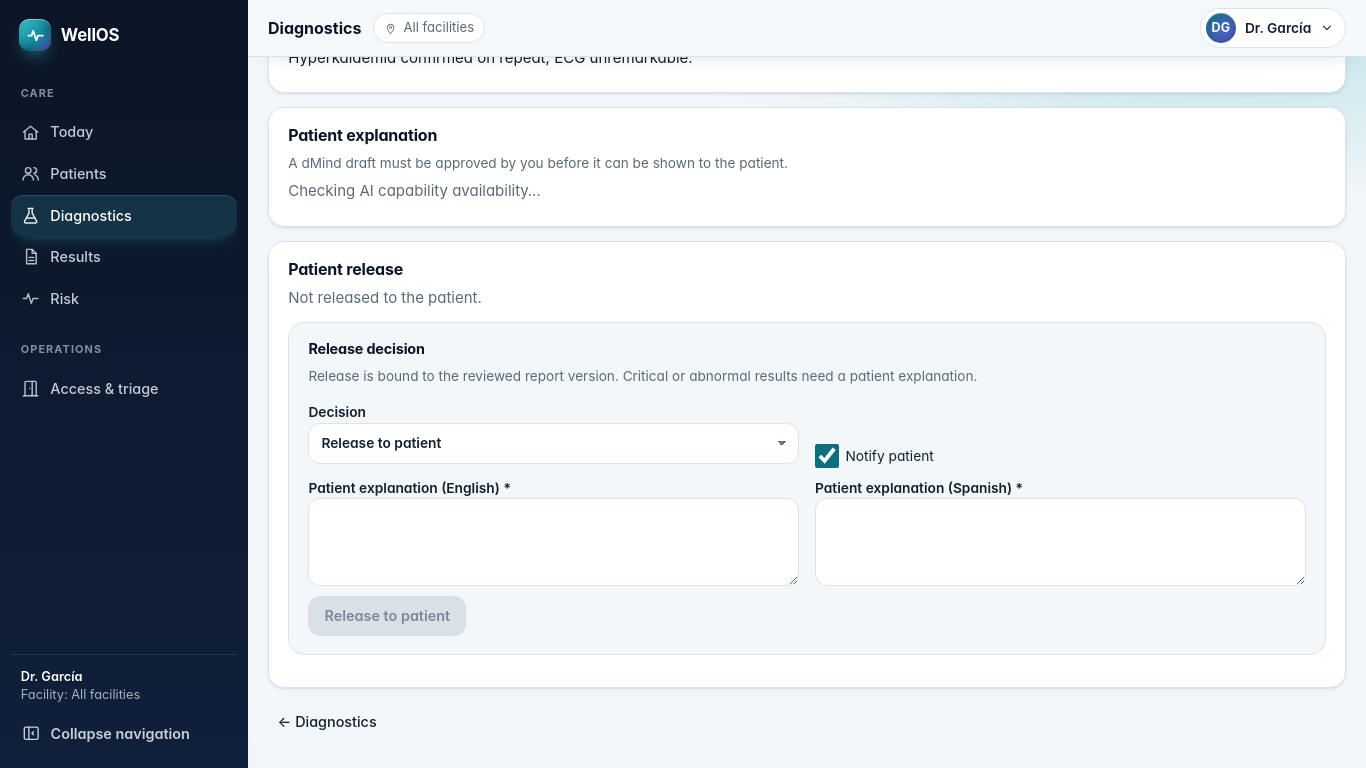
diagnostic report review and release › requires a bilingual explanation for an abnormal result before release and never releases automatically
The image size is (1366, 768).
Later steps or results of the test are not shown.
(page scrolled)
Expected: the element with test id "dx-release" is shown, [288, 322, 1326, 655]
Expected: the button with test id "dx-release-submit" is disabled, [308, 596, 466, 636]
Type "Your potassium is high; we will call you today." into the text box with test id "dx-explanation-en".
click(554, 542); type("Your potassium is high; we will call you today.")  # box [308, 498, 799, 586]
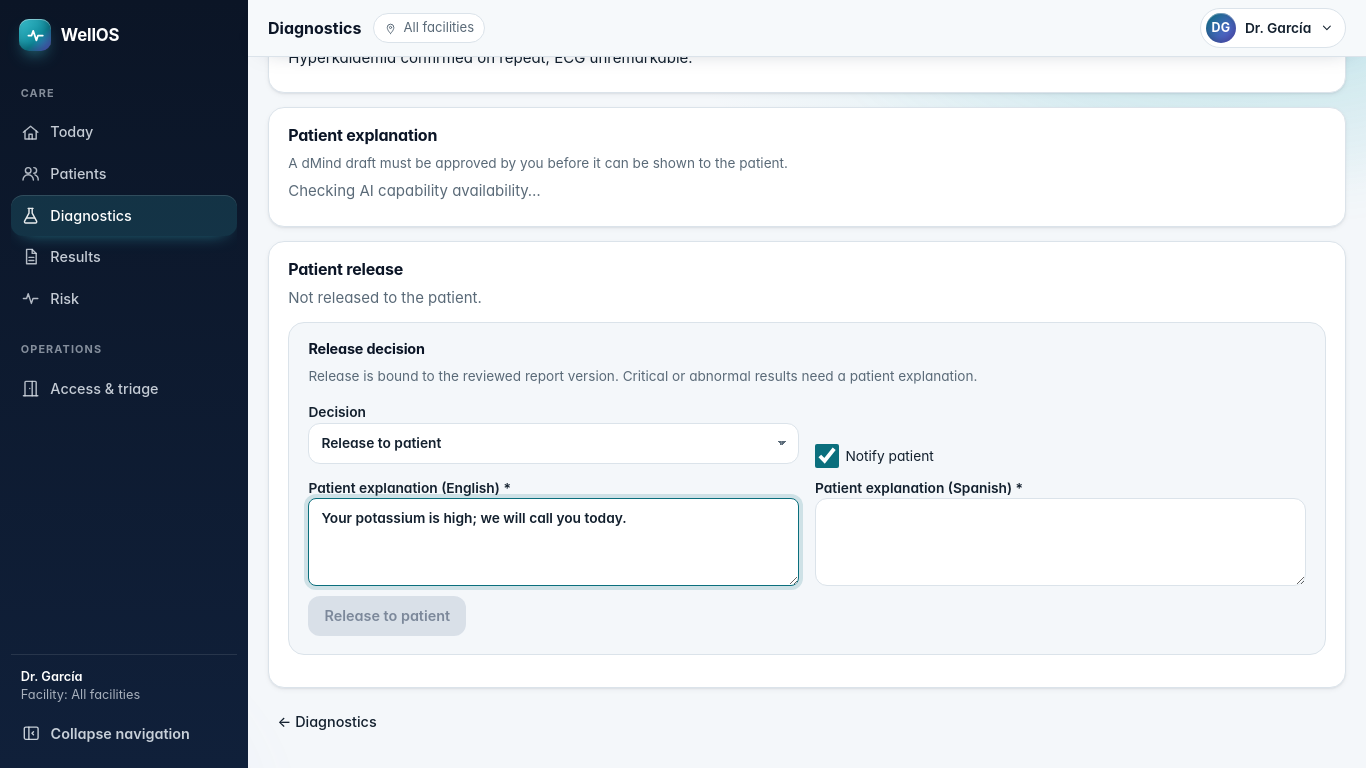
Expected: the button with test id "dx-release-submit" is disabled, [308, 596, 466, 636]
Type "Su potasio está alto; le llamaremos hoy." into the text box with test id "dx-explanation-es".
click(1060, 542); type("Su potasio está alto; le llamaremos hoy.")  # box [815, 498, 1306, 586]
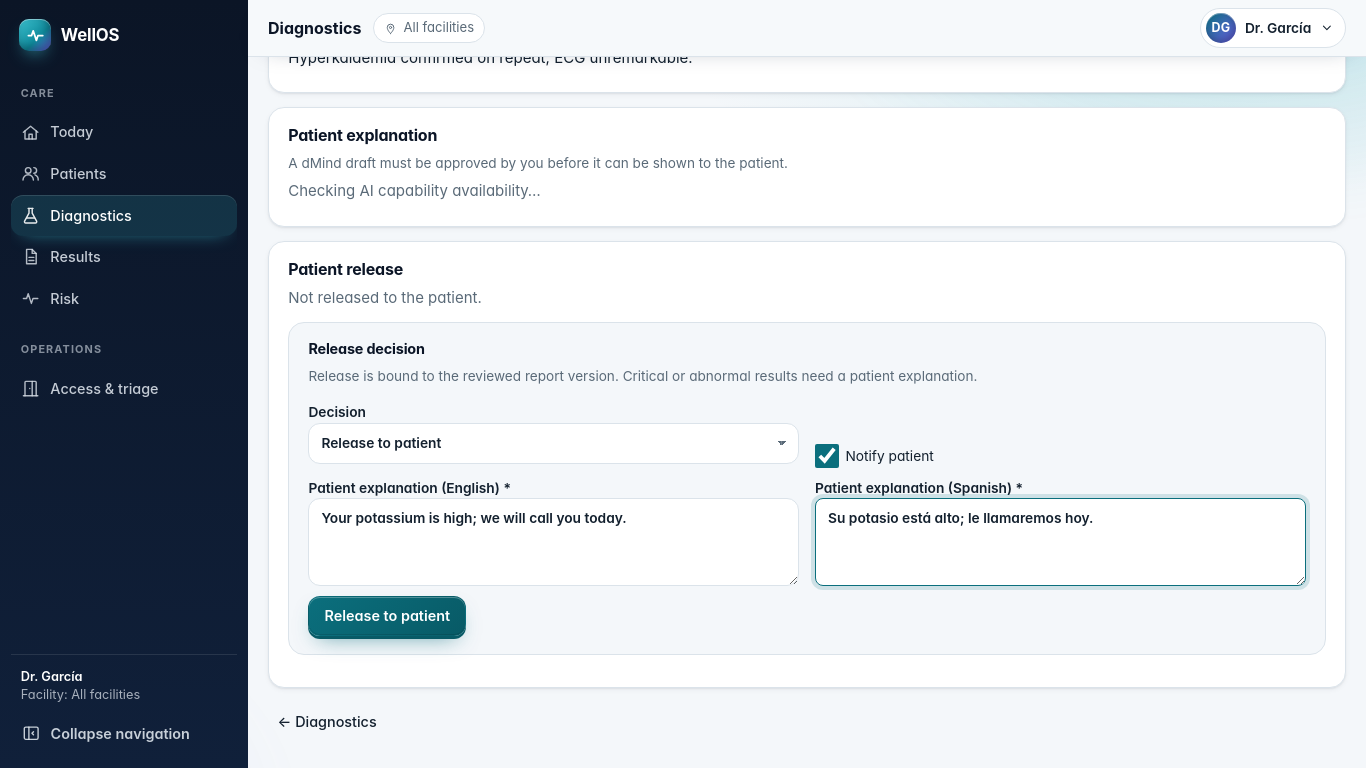
Expected: the button with test id "dx-release-submit" is enabled, [308, 596, 466, 636]
